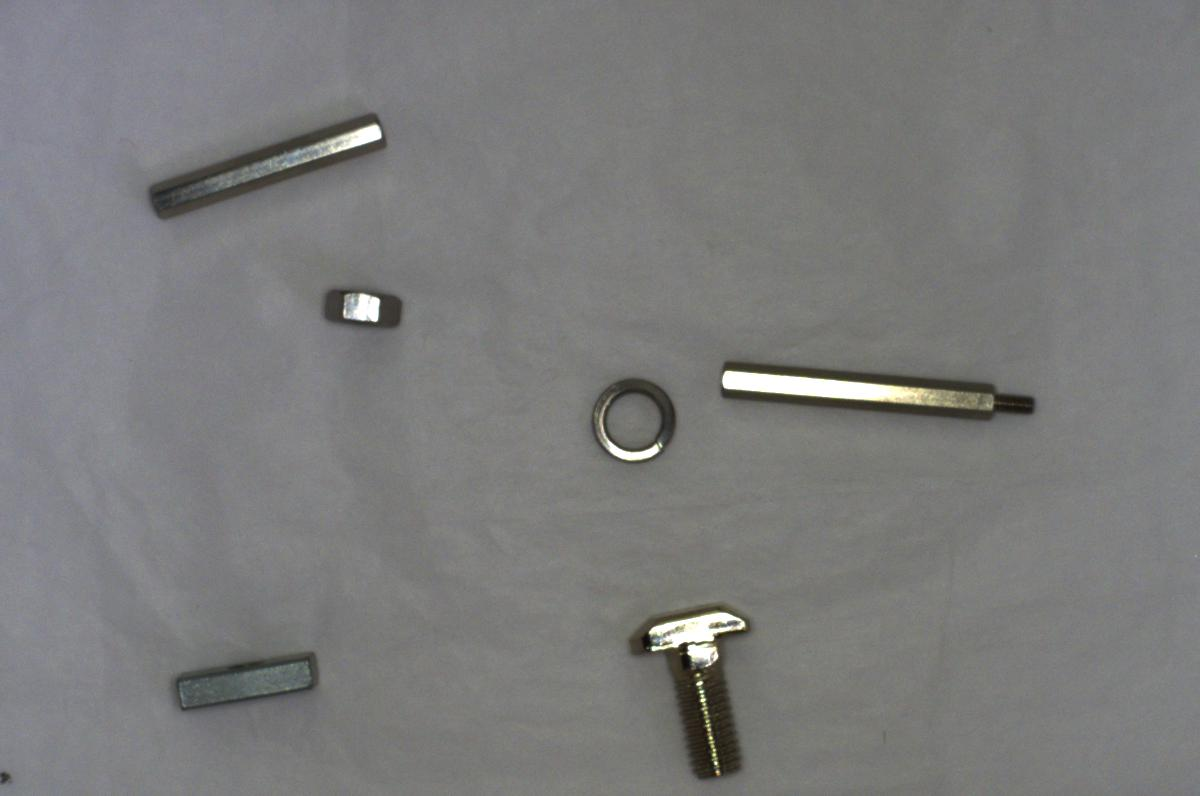Double hexagonal column: (144, 94, 394, 227)
Hexagon nut: (313, 275, 406, 336)
Hexagonal steel column: (717, 352, 1046, 426)
Rectangular nut: (167, 640, 327, 718)
Spring washer: (584, 367, 681, 467)
T-shaped screw: (631, 601, 755, 778)
